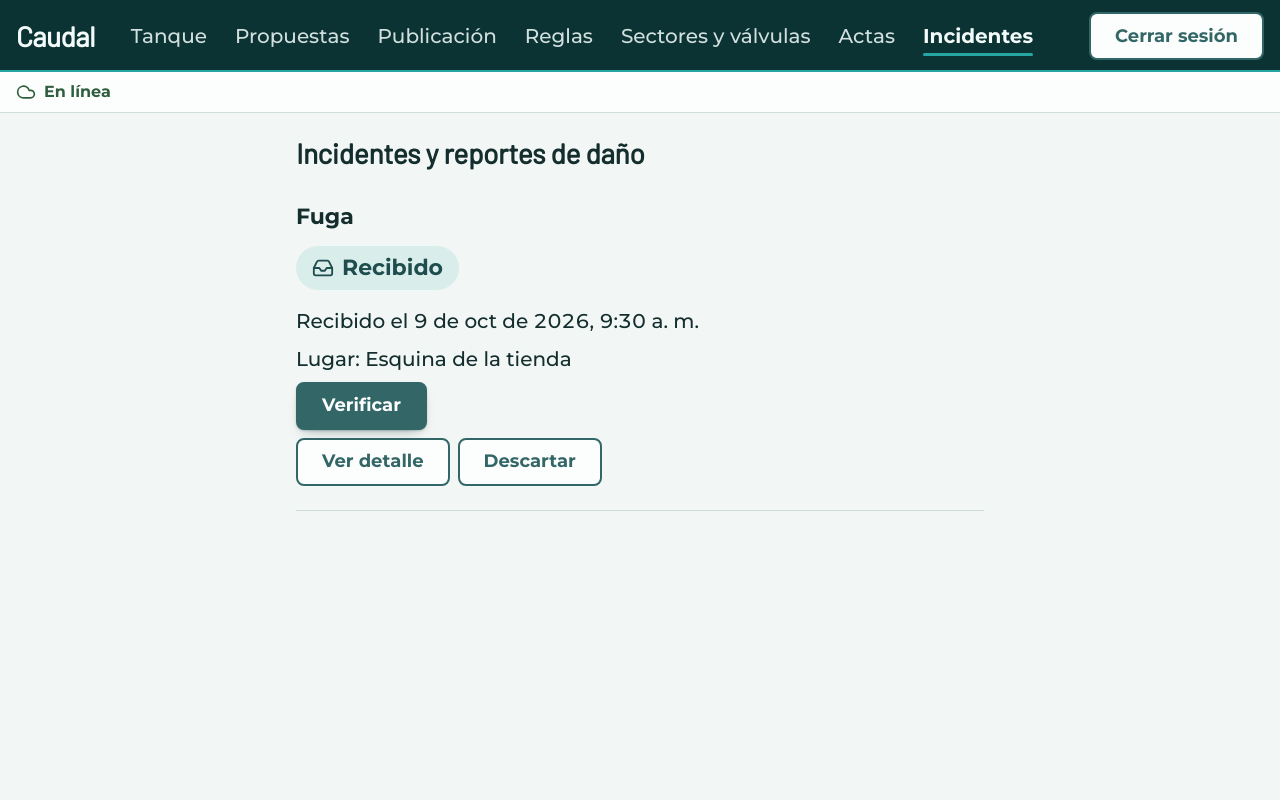
IncidentsPage (S21, board) › says the move is not valid when the server refuses it (409)
The width and height of the screenshot is (1280, 800).
Step 1. Click the button "Verificar" → {"x": 362, "y": 406}, box [296,382,427,430]
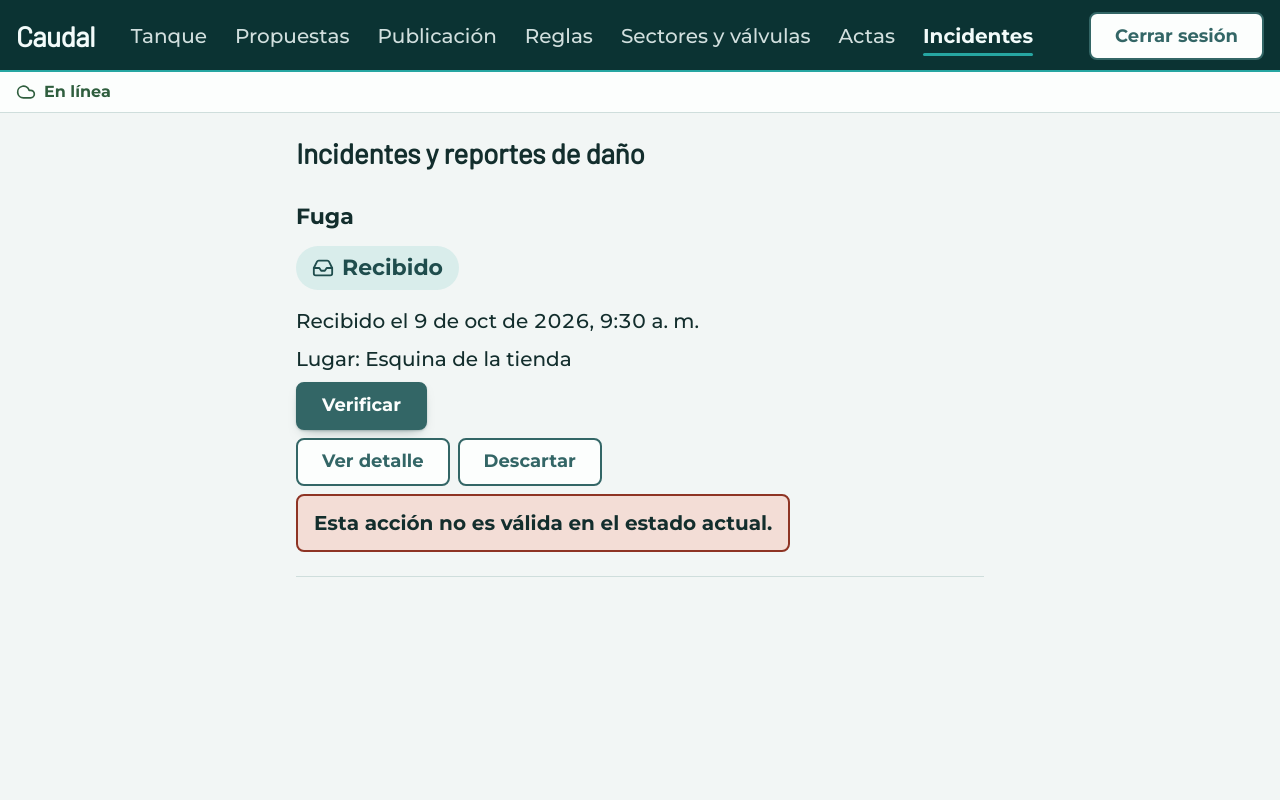
Now the text "Esta acción no es válida en el estado actual." is shown, box [314,508,772,538]
